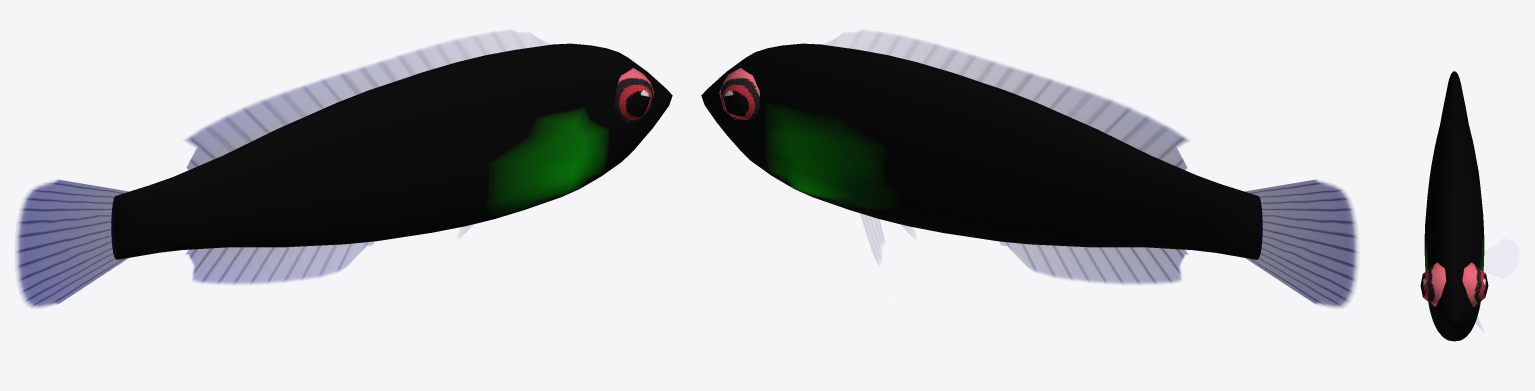
Rendered from fairy_wrasse_lod1.glb.
The picture shows the model from 3 angles, left to right: view 1: azimuth 30°, elevation 25°; view 2: azimuth 150°, elevation 25°; view 3: azimuth 270°, elevation 25°; orthographic projection. The views are drawn at different scales.
Parts seen in each view (by area): view 1: Body, FinCaudal, FinDorsal, FinAnal, EyeR; view 2: Body, FinCaudal, FinDorsal, FinAnal, EyeL; view 3: Body, EyeR, EyeL.
Part boxes in pixels (box(x1,y1,x2,y2)): Body: box(111, 43, 672, 259); FinCaudal: box(16, 180, 129, 307); FinDorsal: box(185, 31, 542, 170); FinAnal: box(186, 242, 373, 283); EyeR: box(614, 68, 653, 122); Body: box(701, 43, 1262, 259); FinCaudal: box(1244, 180, 1357, 307); FinDorsal: box(831, 31, 1188, 170); FinAnal: box(1000, 242, 1187, 283); EyeL: box(719, 68, 759, 120); Body: box(1424, 71, 1484, 341); EyeR: box(1420, 262, 1446, 306); EyeL: box(1462, 262, 1488, 306).
Bounding box in the file's own units: 1 × 0.4677 × 0.2141.
Materials: 4 (3 with a texture image).
